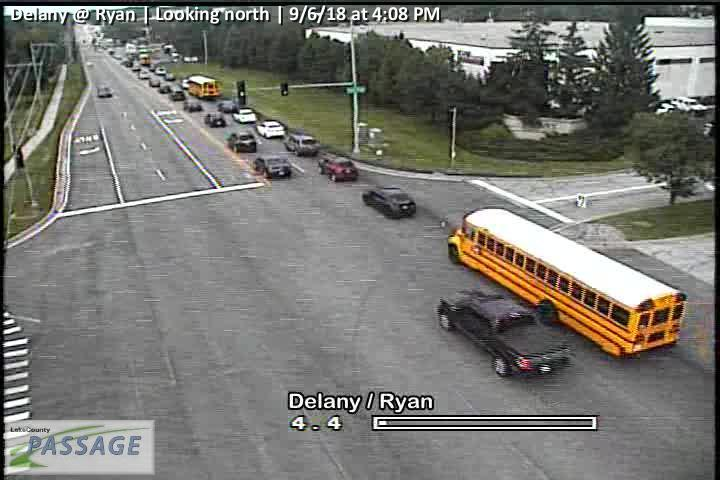Bus: (447, 207, 687, 360), (185, 75, 218, 97)
Sedan: (438, 291, 571, 377), (361, 185, 417, 218), (318, 155, 359, 182), (251, 154, 293, 180), (284, 133, 318, 156), (225, 130, 257, 154), (256, 121, 286, 139), (231, 107, 258, 125), (202, 110, 226, 127), (182, 100, 203, 113), (216, 100, 236, 113), (168, 89, 186, 102)
